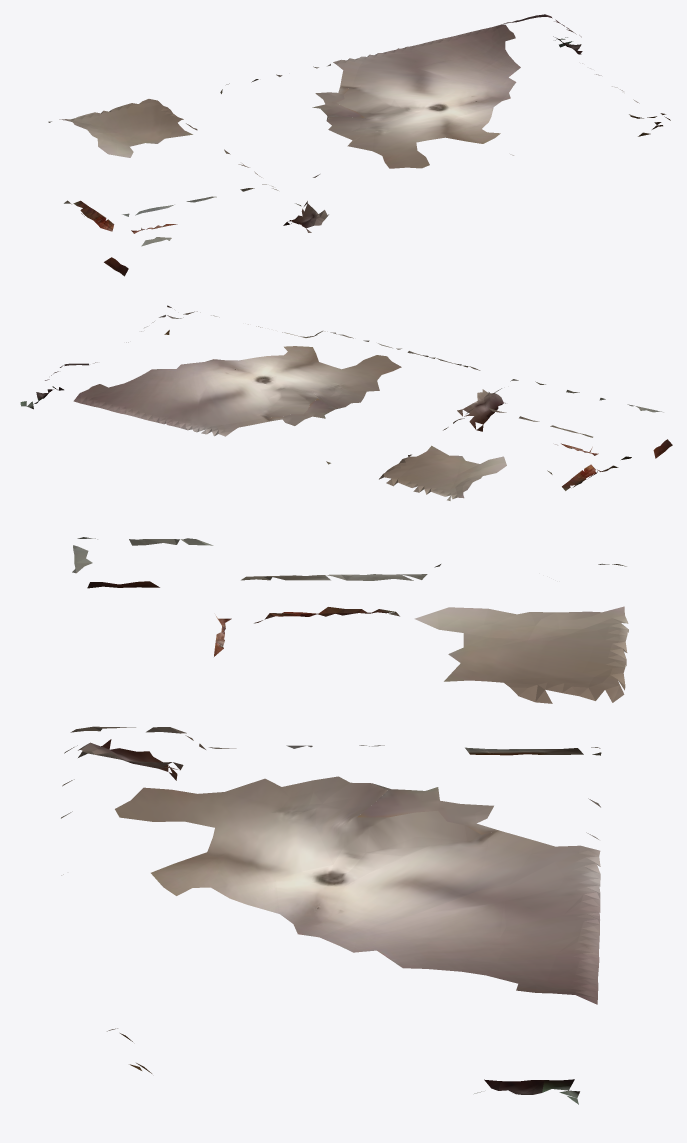
The model's file is esc_baja_techo_02.glb.
3 renders of one model, top to bottom at view 1: azimuth 30°, elevation 25°; view 2: azimuth 150°, elevation 25°; view 3: azimuth 270°, elevation 25°, orthographic. The views are drawn at different scales.
Visible parts, largest first — view 1: techo_Planta_principal_2_GLTF_1, techo_Planta_principal_2_GLTF_8, techo_Planta_principal_2_GLTF_2, techo_Planta_principal_2_GLTF_15, techo_Planta_principal_2_GLTF_3; view 2: techo_Planta_principal_2_GLTF_1, techo_Planta_principal_2_GLTF_8, techo_Planta_principal_2_GLTF_2, techo_Planta_principal_2_GLTF_15, techo_Planta_principal_2_GLTF_3; view 3: techo_Planta_principal_2_GLTF_1, techo_Planta_principal_2_GLTF_8, techo_Planta_principal_2_GLTF_15, techo_Planta_principal_2_GLTF_2, techo_Planta_principal_2_GLTF_3, techo_Planta_principal_2_GLTF_6, techo_Planta_principal_2_GLTF_5.
Boxes of the visible parts, bbox=[...] form: techo_Planta_principal_2_GLTF_1: bbox=[327, 24, 520, 168]; techo_Planta_principal_2_GLTF_8: bbox=[59, 99, 192, 157]; techo_Planta_principal_2_GLTF_2: bbox=[122, 74, 328, 233]; techo_Planta_principal_2_GLTF_15: bbox=[312, 86, 364, 120]; techo_Planta_principal_2_GLTF_3: bbox=[73, 99, 639, 231]; techo_Planta_principal_2_GLTF_1: bbox=[73, 305, 401, 436]; techo_Planta_principal_2_GLTF_8: bbox=[379, 445, 506, 500]; techo_Planta_principal_2_GLTF_2: bbox=[408, 389, 634, 456]; techo_Planta_principal_2_GLTF_15: bbox=[269, 398, 343, 425]; techo_Planta_principal_2_GLTF_3: bbox=[152, 315, 595, 490]; techo_Planta_principal_2_GLTF_1: bbox=[115, 776, 600, 1004]; techo_Planta_principal_2_GLTF_8: bbox=[414, 606, 628, 703]; techo_Planta_principal_2_GLTF_15: bbox=[357, 783, 498, 834]; techo_Planta_principal_2_GLTF_2: bbox=[78, 616, 600, 807]; techo_Planta_principal_2_GLTF_3: bbox=[216, 574, 427, 645]; techo_Planta_principal_2_GLTF_6: bbox=[77, 537, 626, 616]; techo_Planta_principal_2_GLTF_5: bbox=[61, 726, 558, 818].
Bounding box in the file's own units: 8.28 × 0.6093 × 3.82.
14 materials, 14 textured.
